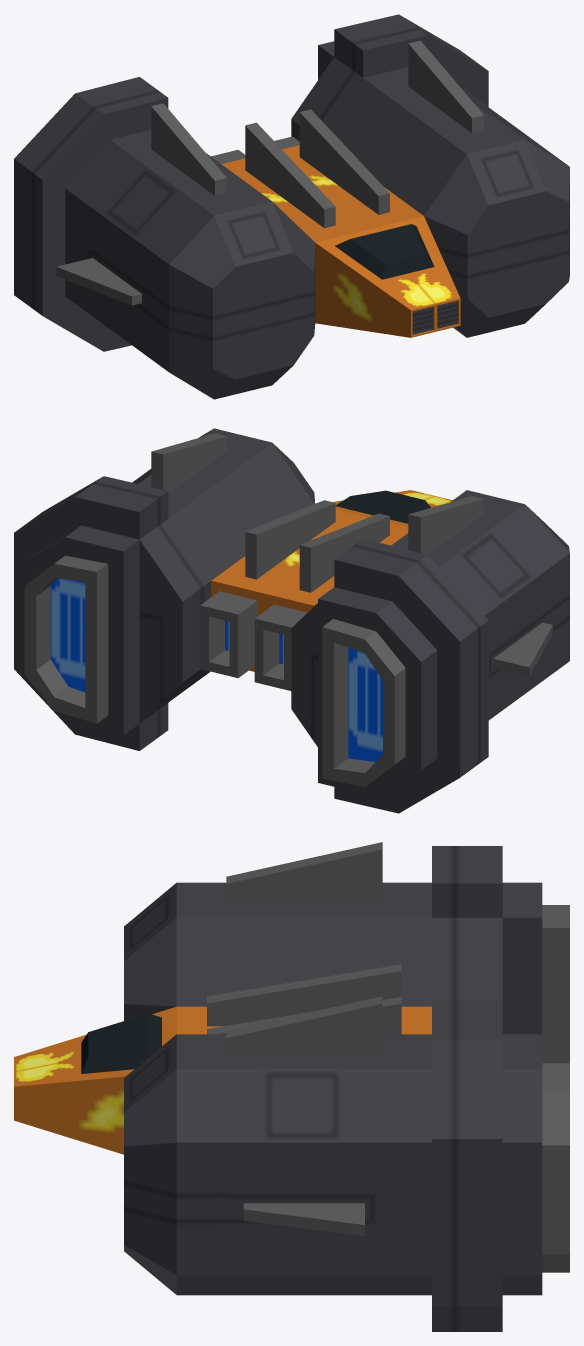
Rendered from Ship05.fbx.
3 views of the same model, one above another, from view 1: azimuth 30°, elevation 25°; view 2: azimuth 150°, elevation 25°; view 3: azimuth 270°, elevation 25° (orthographic). The views are drawn at different scales.
Visible parts, largest first — view 1: Ship05; view 2: Ship05; view 3: Ship05.
Boxes of the visible parts, x1,y1,x2,y2 form: Ship05: (14,14,569,399); Ship05: (14,428,569,813); Ship05: (14,842,569,1331).
Size of the model in its own units: 526 by 270 by 435.
1 material, 1 textured.
